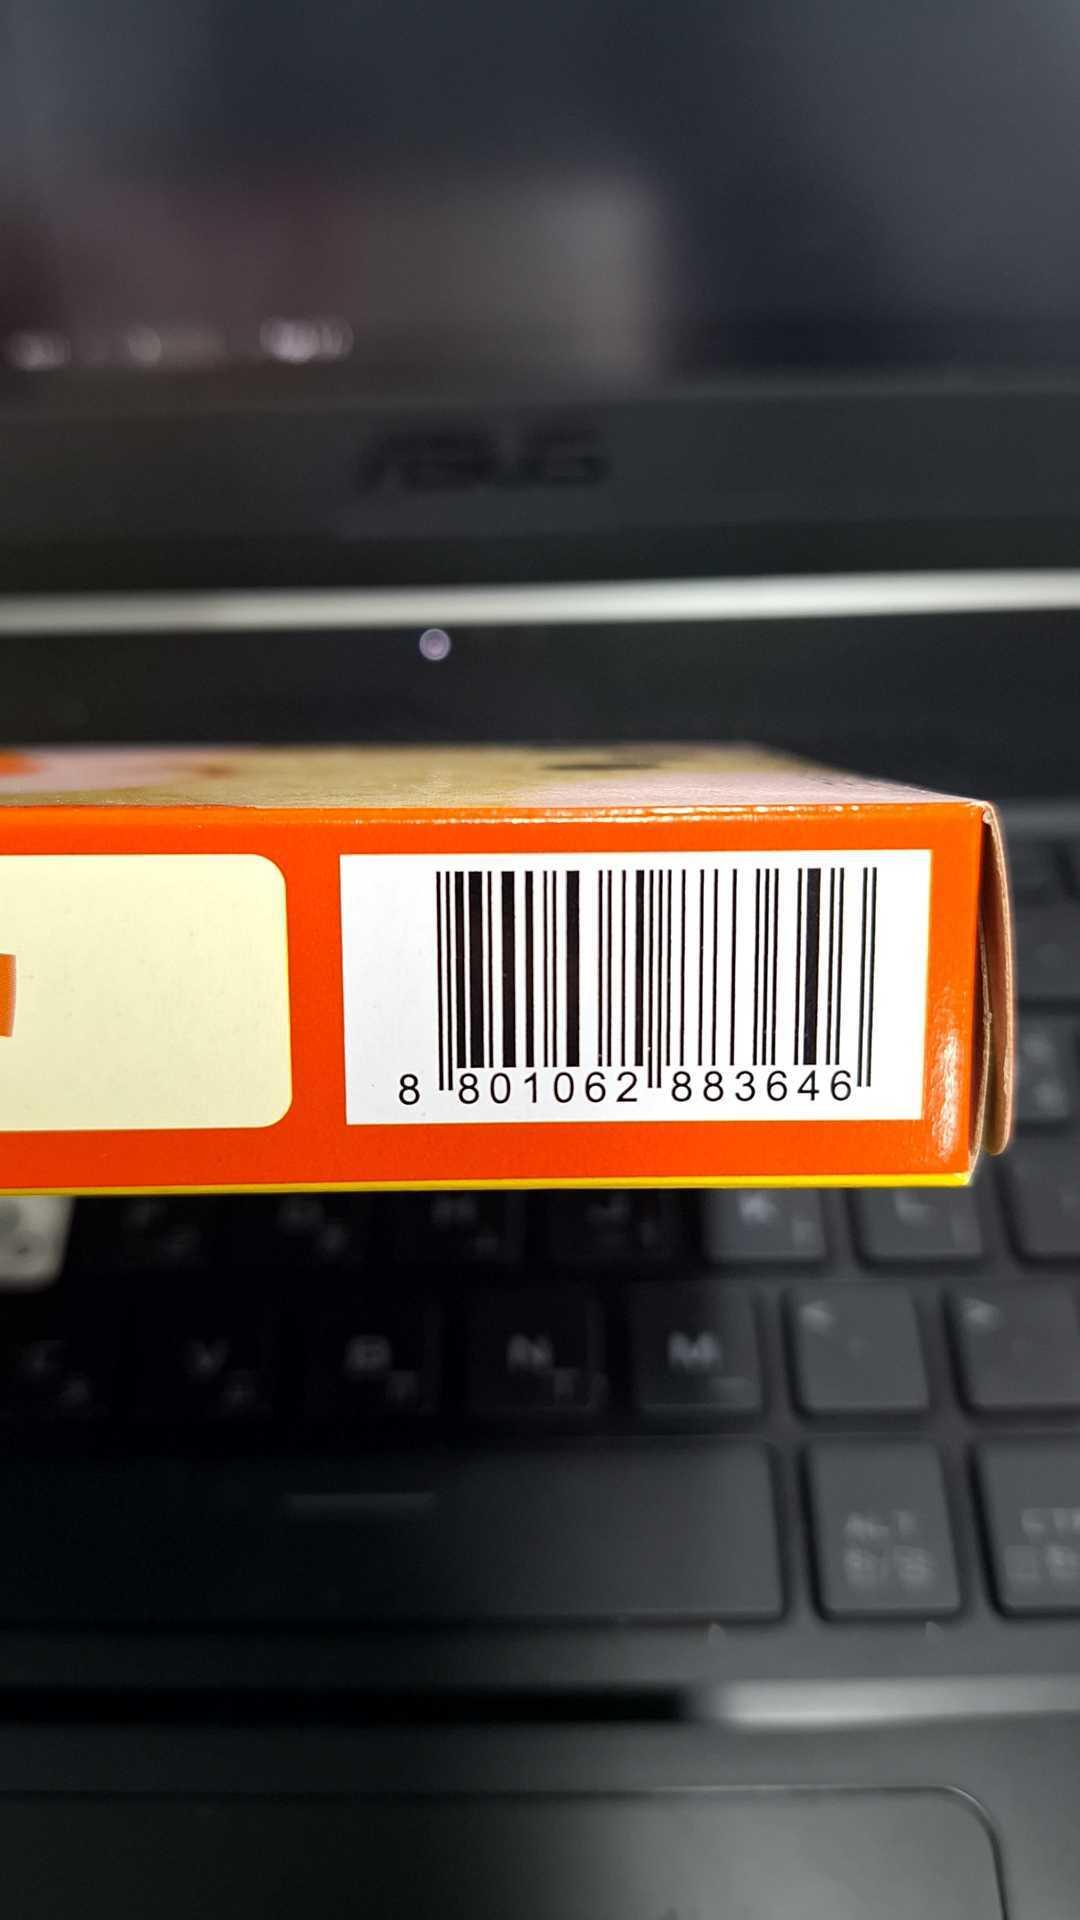crunchy-1500-2024-12-29: (360, 862, 913, 1108)
